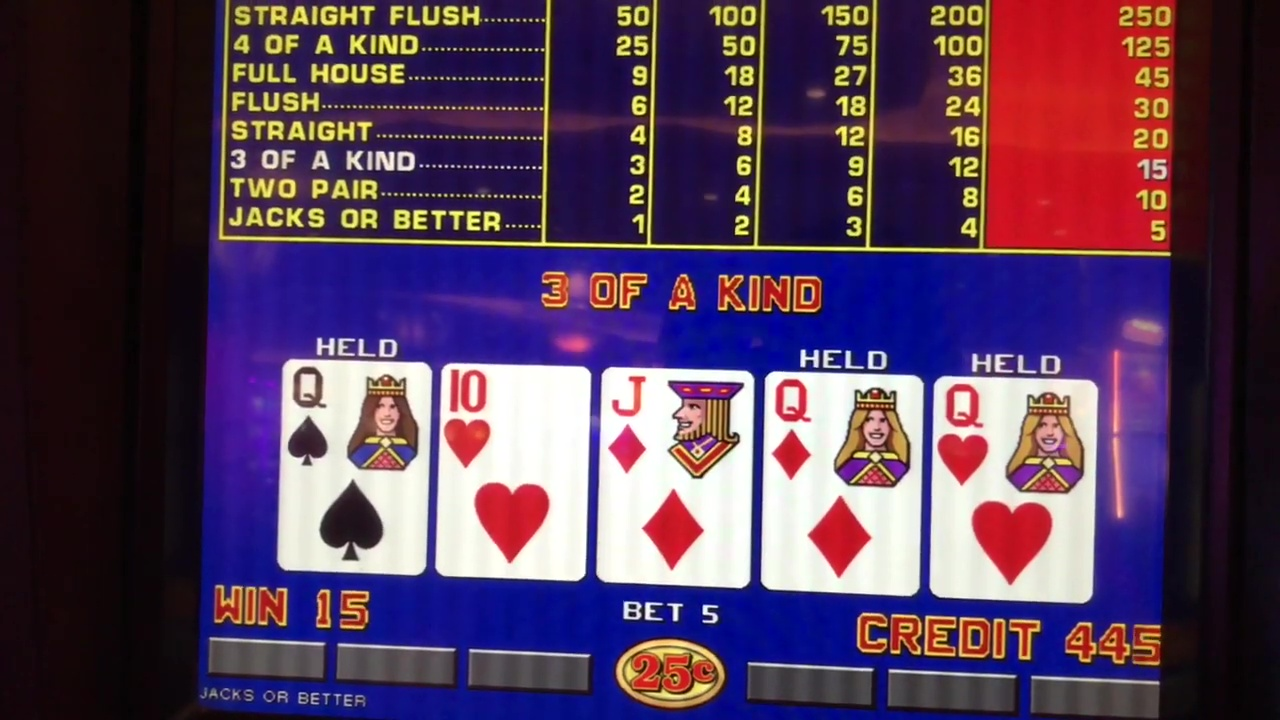DJ: (602, 368, 745, 486)
DQ: (769, 371, 916, 490)
HQ: (932, 380, 1079, 495)
HT: (446, 363, 578, 478)
SQ: (291, 367, 420, 478)
